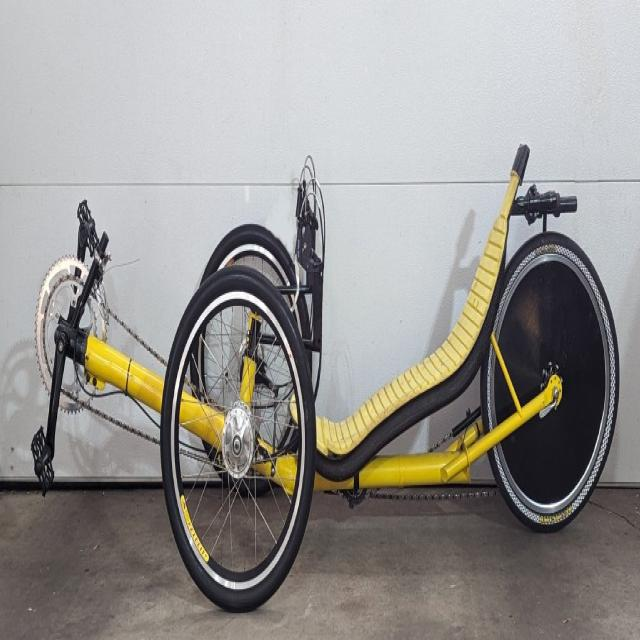recumbent-bike: (28, 140, 626, 618)
